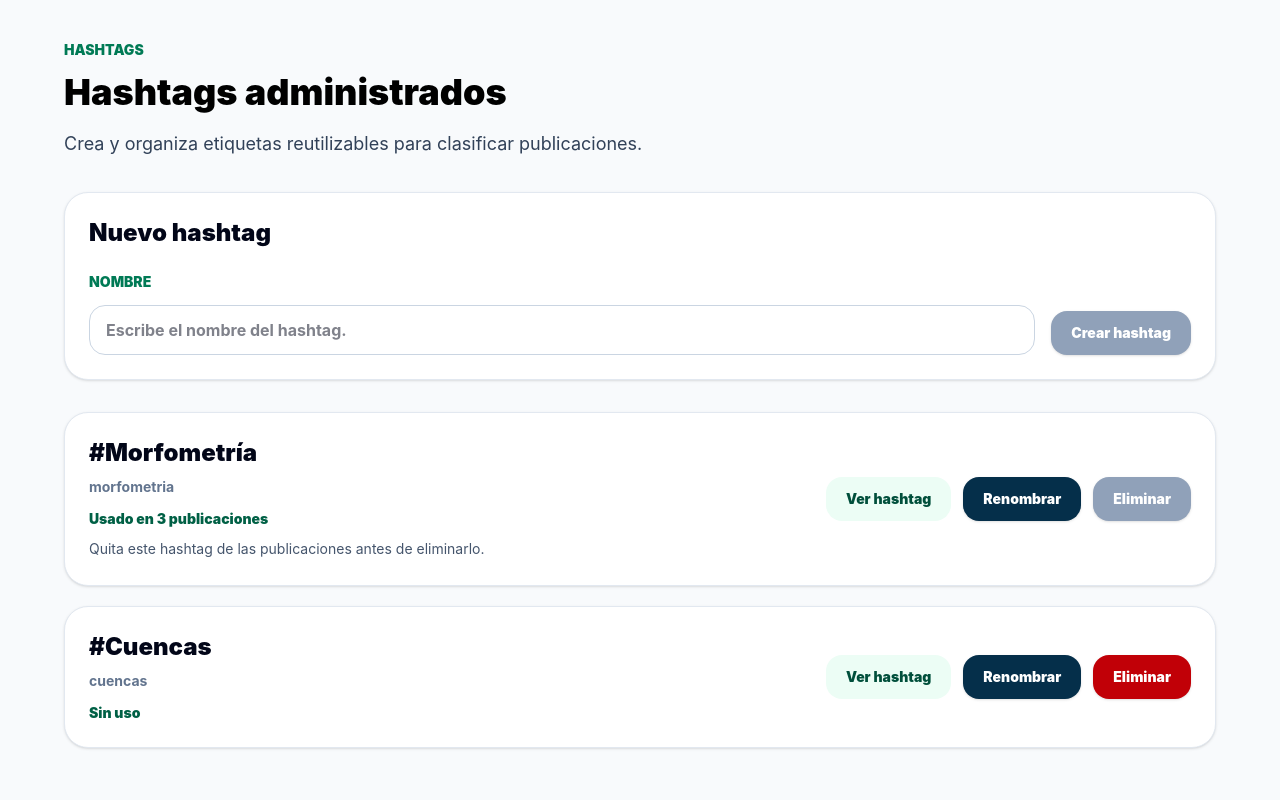
Test: AdminHashtagsView › deletes unused tags
Click the button "Eliminar" in the row of "#Cuencas" at (1142, 677), box [1093,655,1191,699]
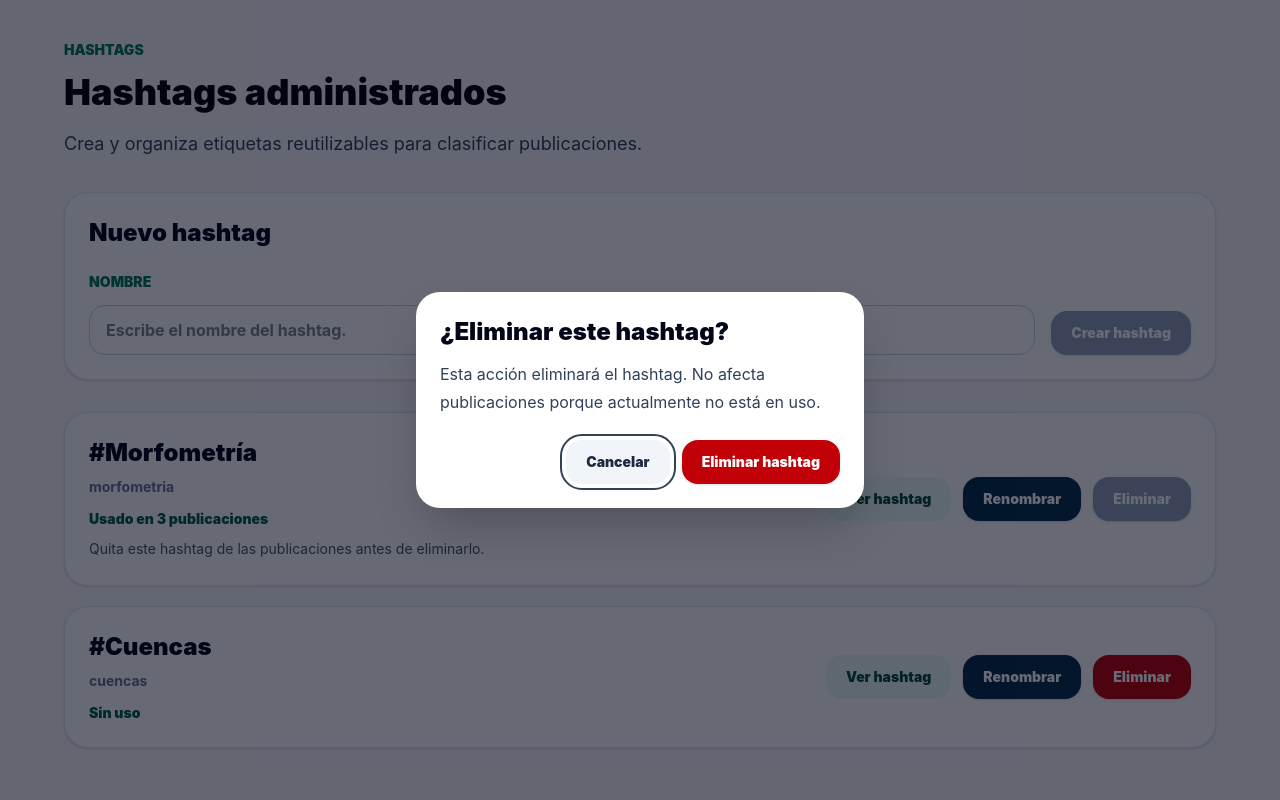
Click the button "Eliminar hashtag" at (761, 462), box [682,440,840,484]
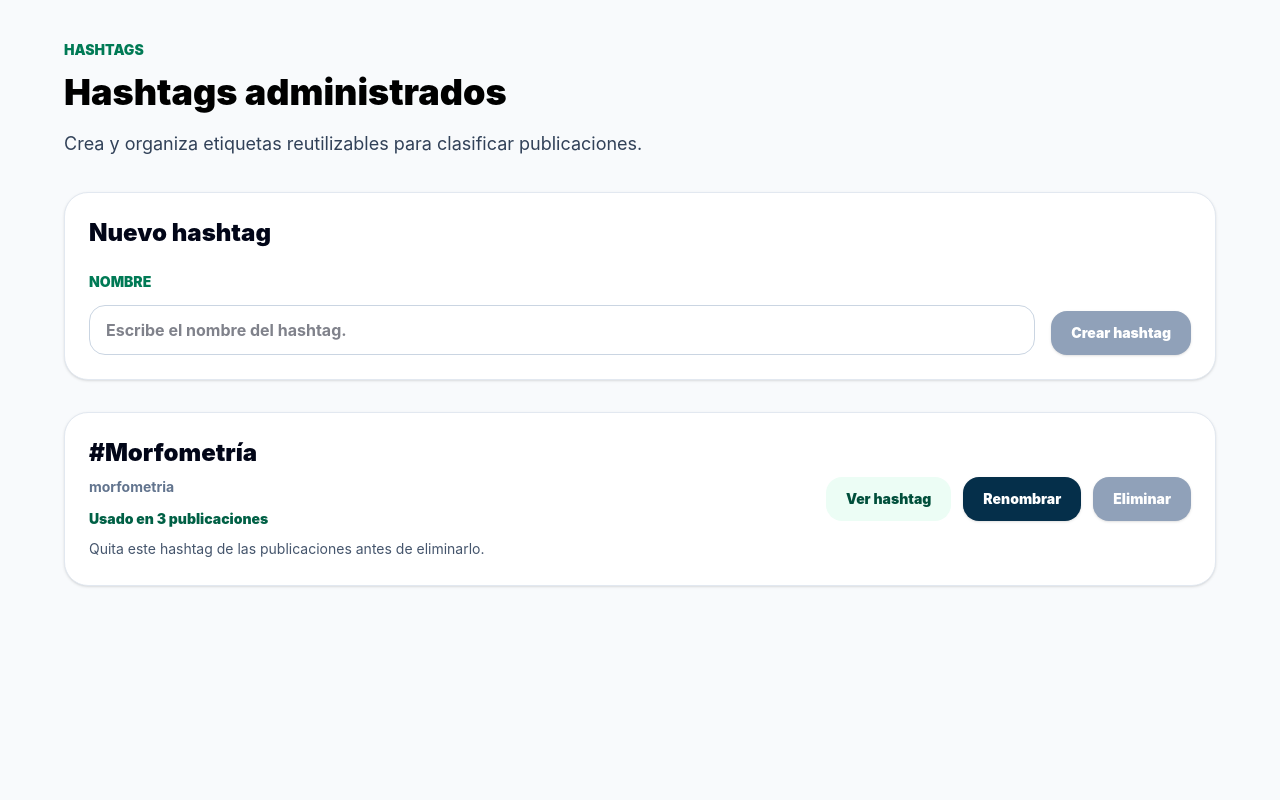
Result: the text "#Cuencas" is gone
